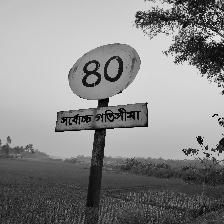Speed-limit: (56, 42, 147, 132)
